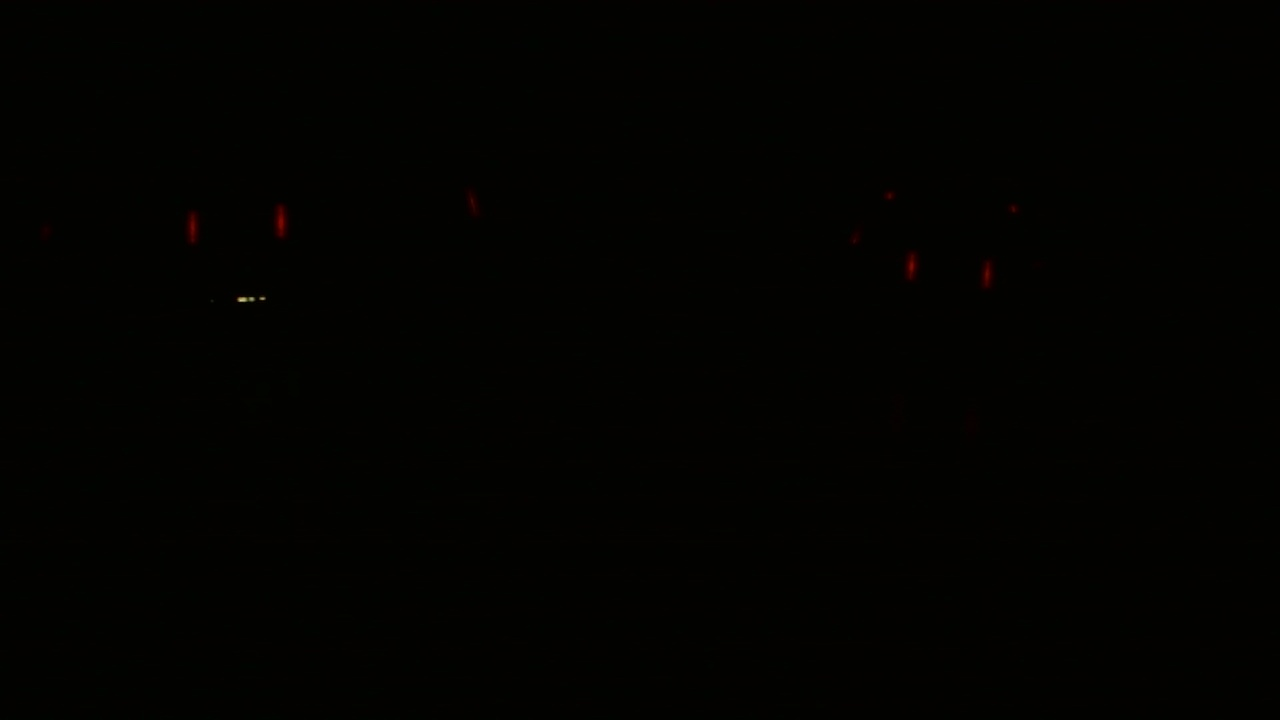pair1: (175, 190, 302, 262)
pair2: (902, 248, 997, 298)
